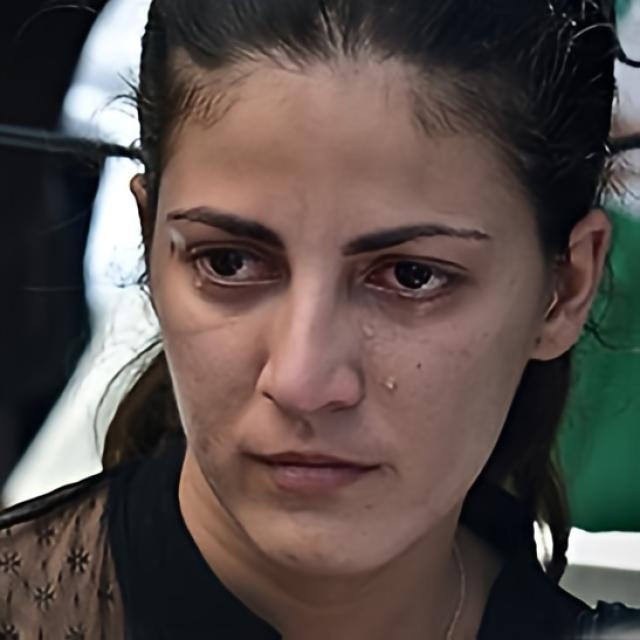sad: (151, 70, 536, 575)
